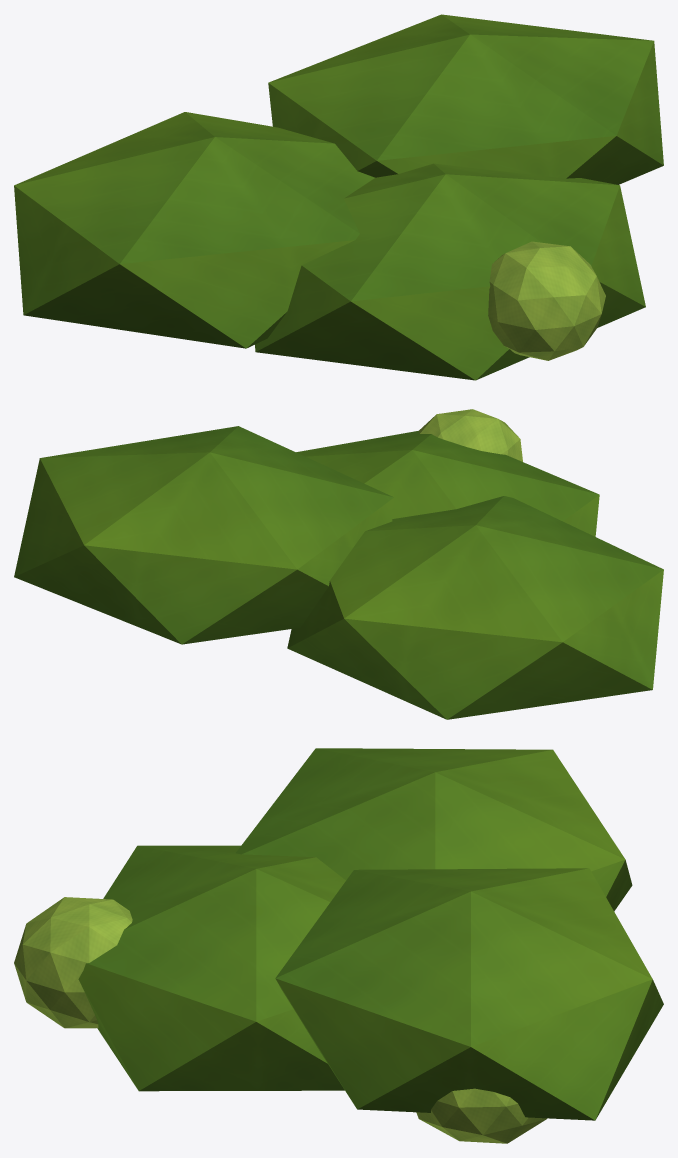
The model's file is forest_moss.glb.
3 views of the same model, one above another, from view 1: azimuth 30°, elevation 25°; view 2: azimuth 150°, elevation 25°; view 3: azimuth 270°, elevation 25° (orthographic). The views are drawn at different scales.
Visible parts, largest first — view 1: Soft moss patch, Soft moss patch.001, Soft moss patch.002, Moss tiny sprouting mound.002; view 2: Soft moss patch, Soft moss patch.001, Soft moss patch.002, Moss tiny sprouting mound.002; view 3: Soft moss patch.001, Soft moss patch.002, Soft moss patch, Moss tiny sprouting mound.002, Moss tiny sprouting mound.001.
Boxes of the visible parts, box(x1,y1,x2,y2) form: Soft moss patch: box(14, 112, 374, 348); Soft moss patch.001: box(268, 14, 663, 184); Soft moss patch.002: box(255, 163, 645, 380); Moss tiny sprouting mound.002: box(488, 241, 605, 360); Soft moss patch: box(287, 496, 663, 719); Soft moss patch.001: box(14, 426, 394, 644); Soft moss patch.002: box(296, 431, 599, 536); Moss tiny sprouting mound.002: box(418, 409, 522, 461); Soft moss patch.001: box(275, 868, 663, 1120); Soft moss patch.002: box(78, 845, 345, 1091); Soft moss patch: box(236, 748, 632, 911); Moss tiny sprouting mound.002: box(14, 897, 132, 1028); Moss tiny sprouting mound.001: box(416, 1088, 547, 1143).
Size of the model in its own units: 0.6914 by 0.2209 by 0.5451.
2 materials, 2 textured.
